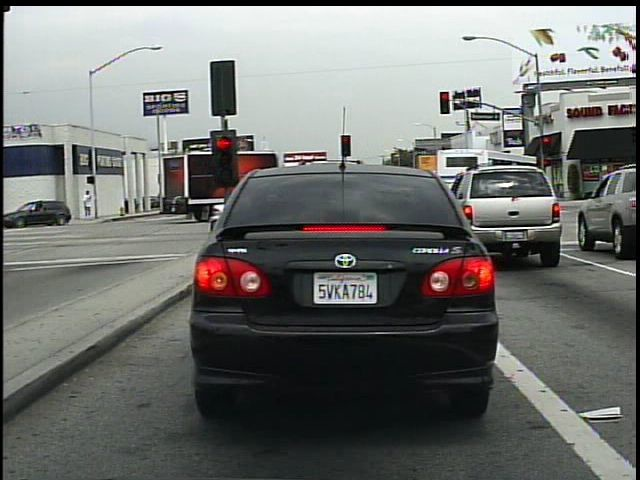person: (81, 187, 95, 219)
